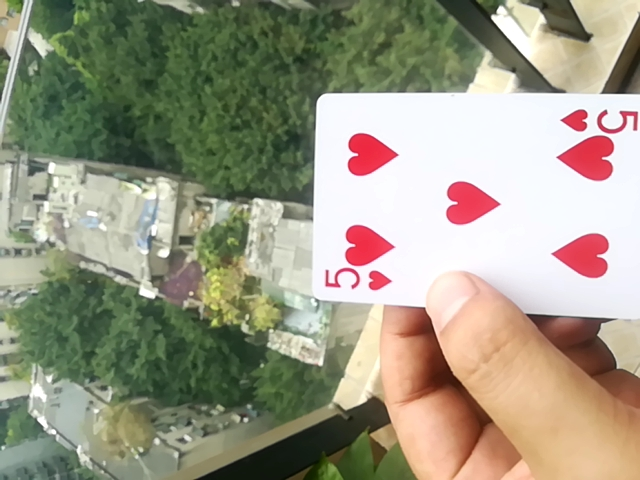hx 5: (307, 89, 638, 321)
